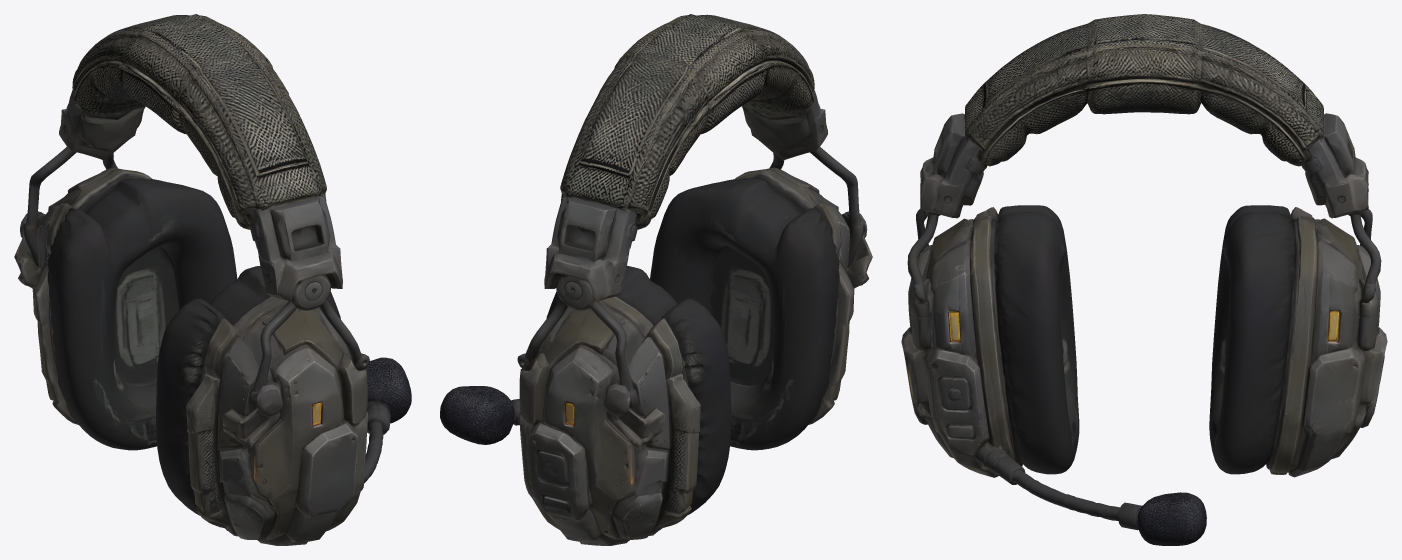
Rendered from tactical-headset-v1.glb.
3 views of the same model, side by side, from view 1: azimuth 30°, elevation 25°; view 2: azimuth 150°, elevation 25°; view 3: azimuth 270°, elevation 25° (orthographic). The views are drawn at different scales.
Visible parts, largest first — view 1: tripo_node_6af4aaf8-ce43-4097-a965-a78ed6edd083; view 2: tripo_node_6af4aaf8-ce43-4097-a965-a78ed6edd083; view 3: tripo_node_6af4aaf8-ce43-4097-a965-a78ed6edd083.
Boxes of the visible parts, bbox=[...] form: tripo_node_6af4aaf8-ce43-4097-a965-a78ed6edd083: bbox=[14, 14, 411, 545]; tripo_node_6af4aaf8-ce43-4097-a965-a78ed6edd083: bbox=[440, 14, 872, 545]; tripo_node_6af4aaf8-ce43-4097-a965-a78ed6edd083: bbox=[901, 14, 1387, 545].
Size of the model in its own units: 0.7058 by 0.9803 by 0.9801.
1 material, 1 textured.
